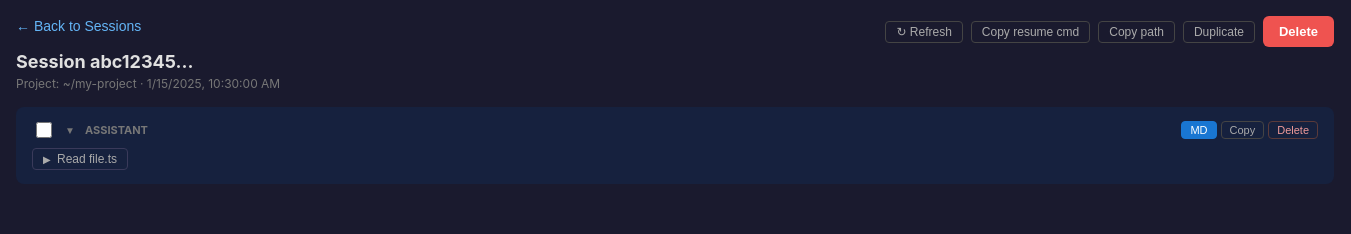
SessionDetail › collapsible parts › expands tool_use part detail when clicked
Click the button "▶ Read file.ts". click: x=80, y=159
box: [32, 148, 128, 170]
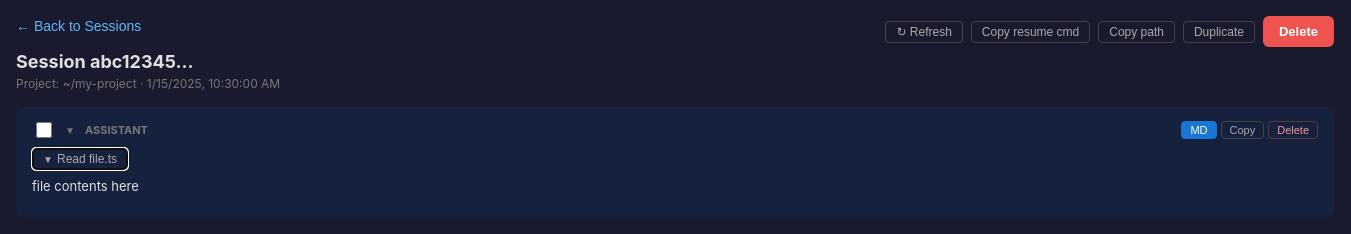
Expected: the text "file contents here" is shown, [32, 178, 139, 194]
